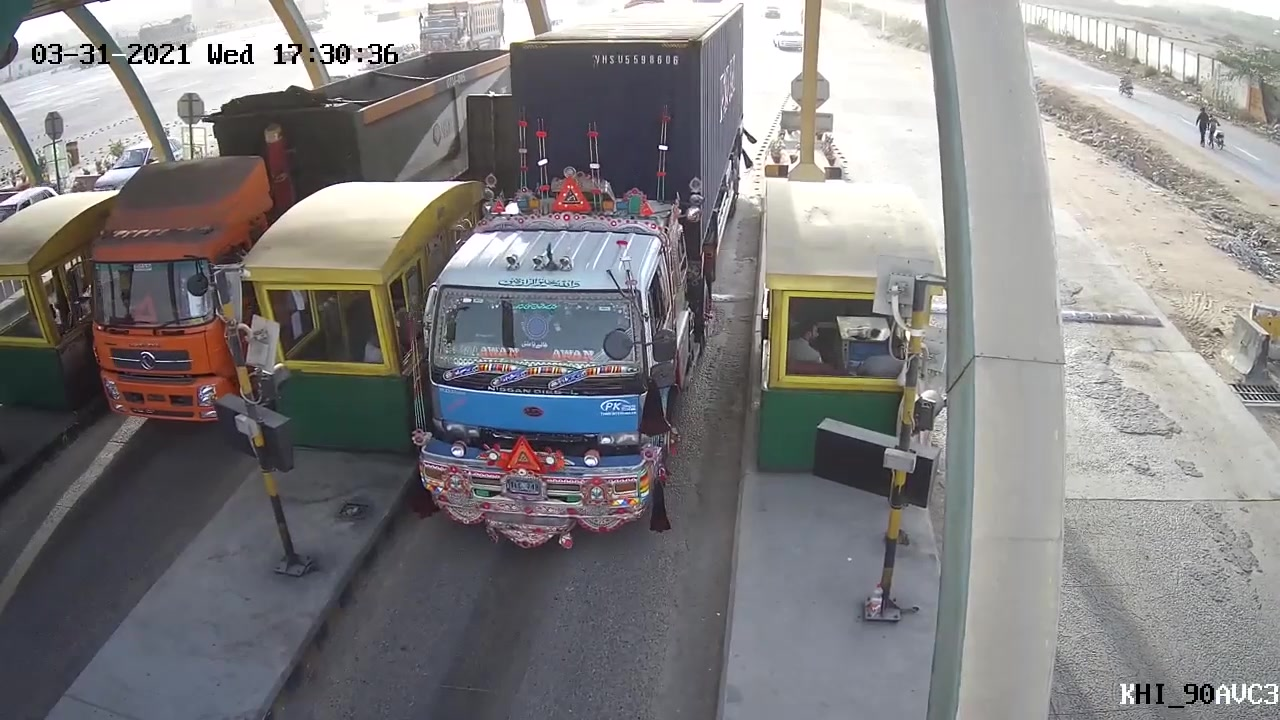F6: (421, 39, 713, 557)
